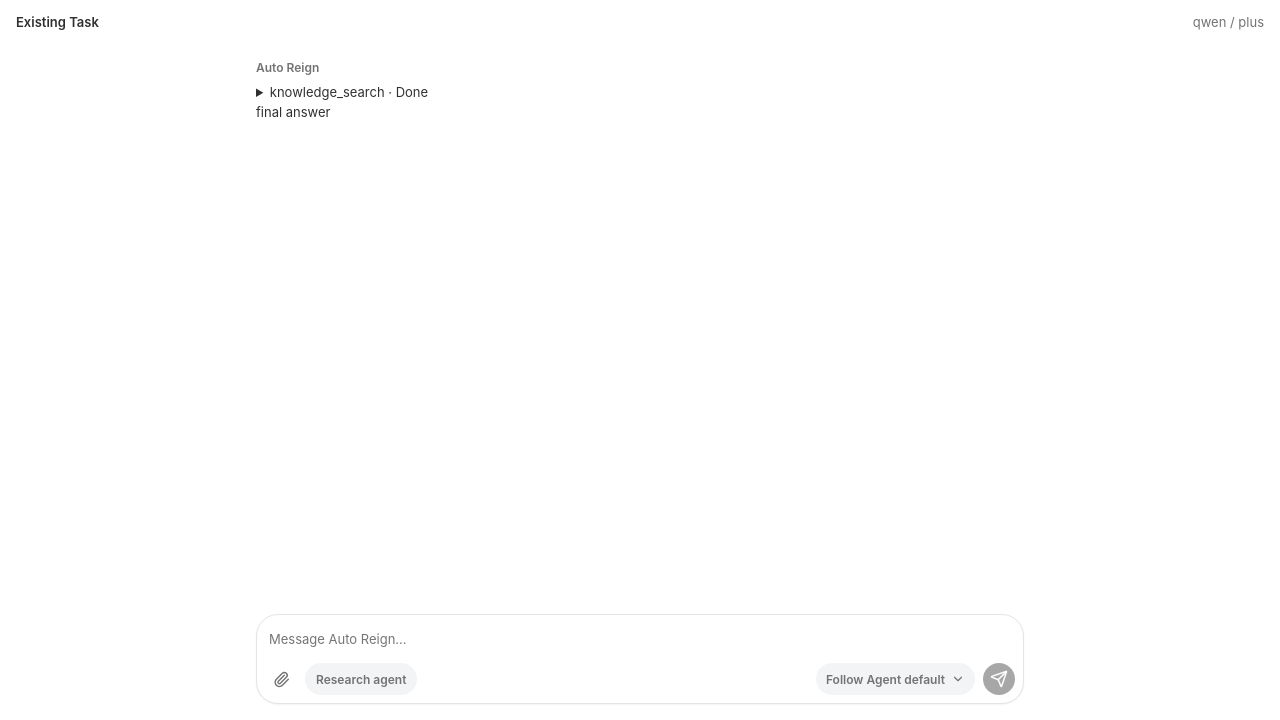
Scenario: ChatWorkspace › renders block created/updated tool output and final answer state
The image size is (1280, 720).
What coordinates should you click on to do the following:
click the heading "knowledge_search · Done"
I would click on:
 (349, 92)
Its box is [270,84,428,100].
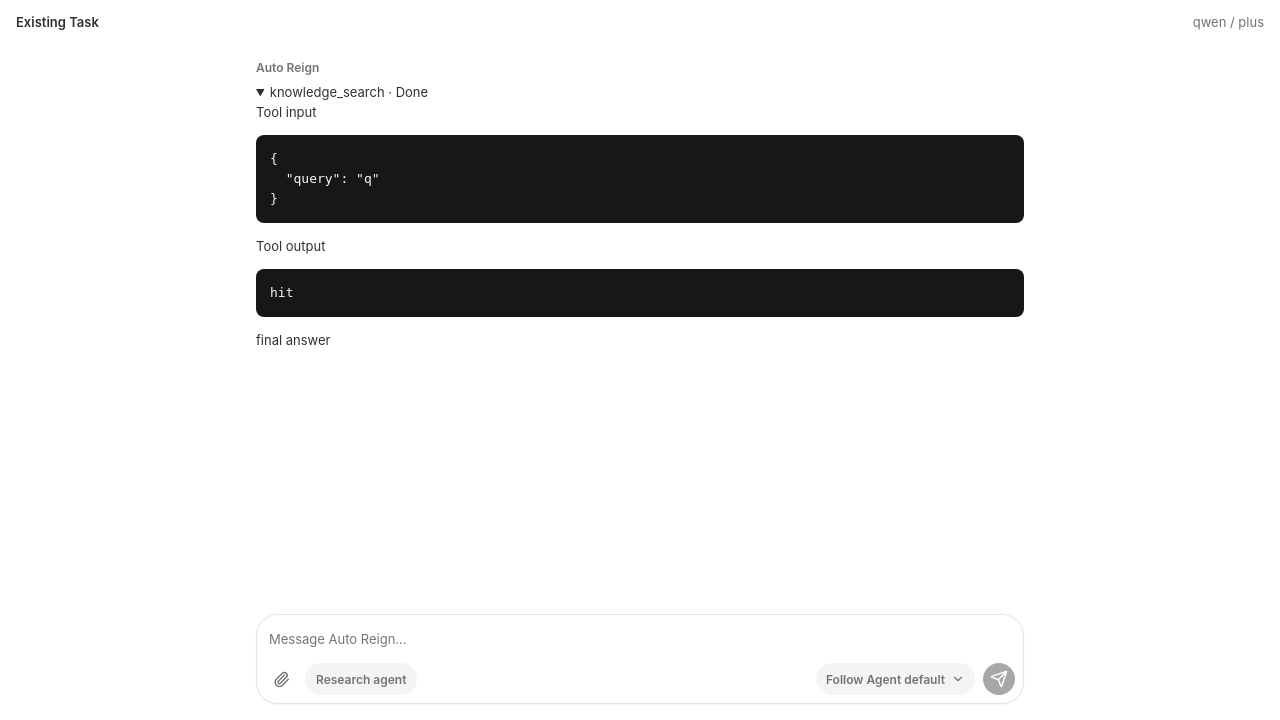
Expected: the text "final answer" is shown, [256,332,330,348]
Expected: the text "hit" is shown, [256,269,1024,317]
